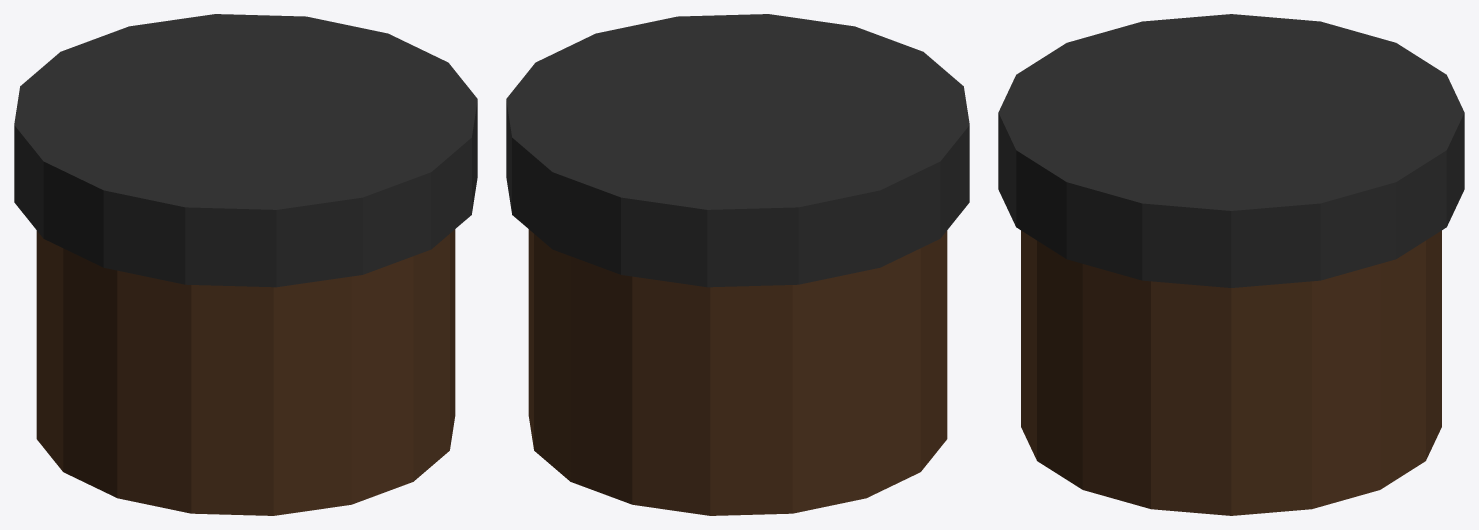
File: CircBench.fbx
3 renders of one model, left to right at view 1: azimuth 30°, elevation 25°; view 2: azimuth 150°, elevation 25°; view 3: azimuth 270°, elevation 25°, orthographic.
Visible parts, largest first — view 1: CircularBench; view 2: CircularBench; view 3: CircularBench.
Part boxes in pixels (x1=…): CircularBench: x1=14, y1=14, x2=477, y2=515; CircularBench: x1=506, y1=14, x2=969, y2=515; CircularBench: x1=998, y1=14, x2=1464, y2=515.
Bounding box in the file's own units: 111 × 82.48 × 111.
